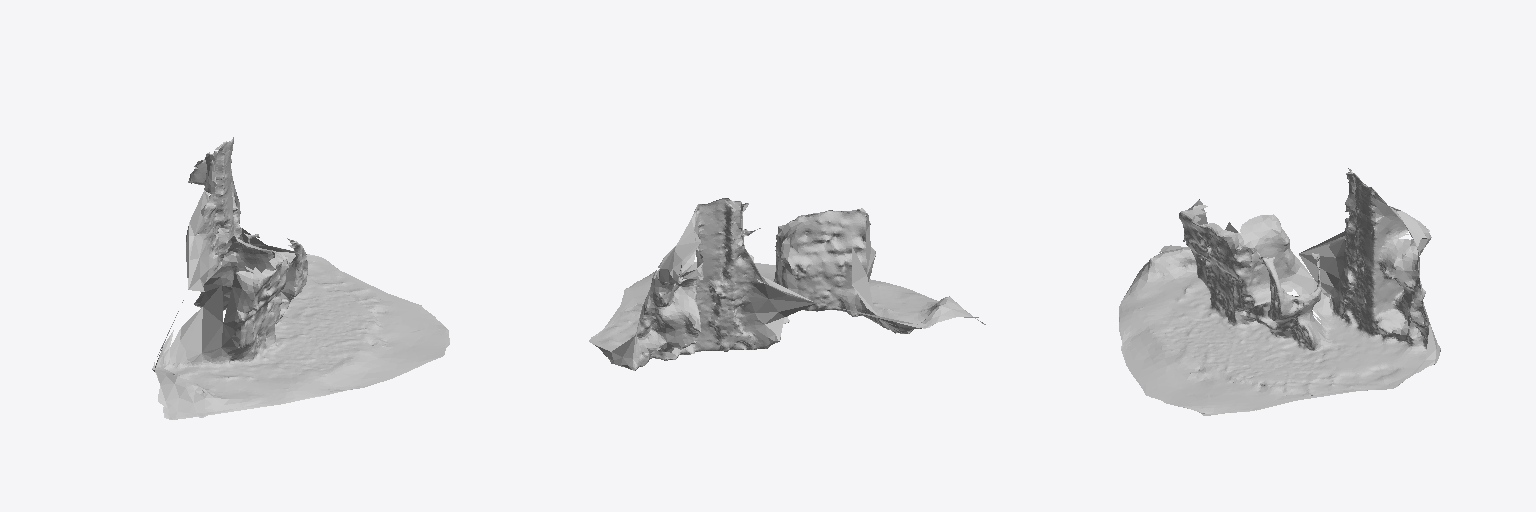
File: trash2.obj
3 renders of one model, left to right at view 1: azimuth 30°, elevation 25°; view 2: azimuth 150°, elevation 25°; view 3: azimuth 270°, elevation 25°, orthographic.
Visible parts, largest first — view 1: mesh; view 2: mesh; view 3: mesh.
Boxes of the visible parts, box(x1,y1,x2,y2) form: mesh: box(152, 137, 449, 419); mesh: box(589, 198, 985, 370); mesh: box(1119, 168, 1440, 415).
Bounding box in the file's own units: 6.19 × 3.23 × 5.57.